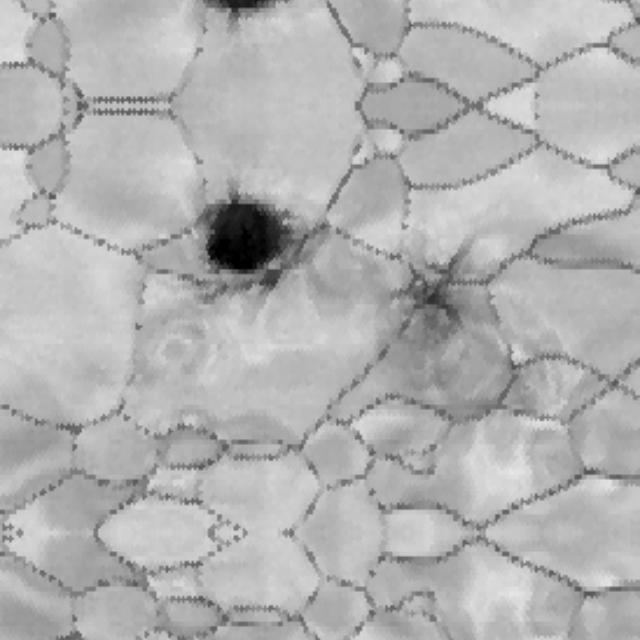good_void: (186, 187, 300, 298), (392, 234, 475, 357), (128, 319, 149, 334), (532, 111, 543, 124), (532, 89, 543, 102)
